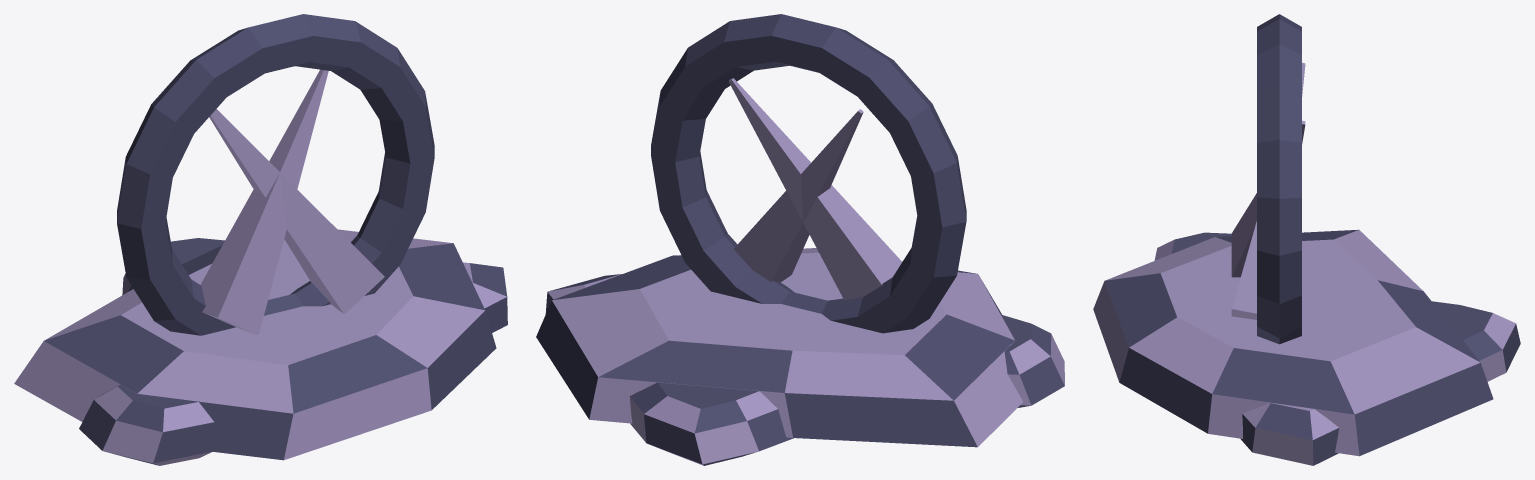
The model's file is BH_ORE_O23_Singularidade_Lapidada_V01.glb.
3 renders of one model, left to right at view 1: azimuth 30°, elevation 25°; view 2: azimuth 150°, elevation 25°; view 3: azimuth 270°, elevation 25°, orthographic. The views are drawn at different scales.
Visible parts, largest first — view 1: Bedrock | primary.001, Enclosing stone / obsidian halo.001, Crossed axis.002, Crossed axis.003, Bedrock | shoulder 1.001, Bedrock | shoulder 2.001, Bedrock | shoulder 3.001; view 2: Bedrock | primary.001, Enclosing stone / obsidian halo.001, Bedrock | shoulder 3.001, Crossed axis.002, Crossed axis.003, Bedrock | shoulder 1.001, Bedrock | shoulder 2.001; view 3: Bedrock | primary.001, Enclosing stone / obsidian halo.001, Bedrock | shoulder 2.001, Bedrock | shoulder 3.001, Crossed axis.003, Crossed axis.002, Bedrock | shoulder 1.001.
Part boxes in pixels (x1,y1,x2,y2): Bedrock | primary.001: [14, 229, 496, 460]; Enclosing stone / obsidian halo.001: [117, 14, 434, 335]; Crossed axis.002: [200, 69, 328, 334]; Crossed axis.003: [209, 109, 384, 313]; Bedrock | shoulder 1.001: [79, 384, 214, 465]; Bedrock | shoulder 2.001: [463, 262, 507, 332]; Bedrock | shoulder 3.001: [122, 238, 224, 294]; Bedrock | primary.001: [536, 248, 1022, 447]; Enclosing stone / obsidian halo.001: [651, 14, 966, 333]; Bedrock | shoulder 3.001: [629, 382, 793, 465]; Crossed axis.002: [728, 78, 901, 299]; Crossed axis.003: [733, 109, 863, 282]; Bedrock | shoulder 1.001: [1001, 314, 1064, 407]; Bedrock | shoulder 2.001: [545, 274, 621, 313]; Bedrock | primary.001: [1093, 229, 1493, 456]; Enclosing stone / obsidian halo.001: [1257, 14, 1301, 344]; Bedrock | shoulder 2.001: [1240, 402, 1338, 465]; Bedrock | shoulder 3.001: [1432, 301, 1520, 381]; Crossed axis.003: [1231, 62, 1305, 319]; Crossed axis.002: [1231, 120, 1305, 277]; Bedrock | shoulder 1.001: [1154, 232, 1231, 260].
Size of the model in its own units: 2.48 by 1.86 by 2.13.
